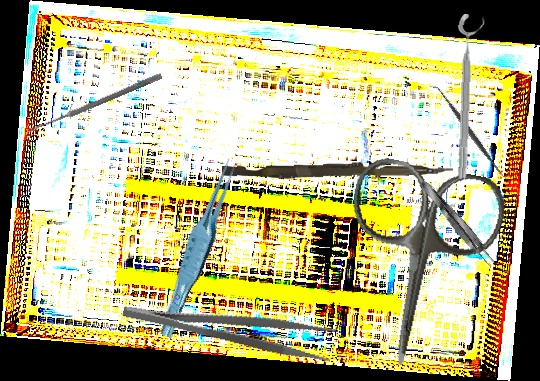Dressing Forceps: (121, 283, 337, 366)
Fixation Ring: (453, 13, 486, 180)
Iris Scissors: (324, 153, 511, 379)
Pusher: (221, 157, 454, 183)
Spatula Surgical: (429, 79, 510, 184)
Surgical Spoon: (26, 71, 163, 136)
Tissue Forceps: (146, 156, 252, 340), (416, 176, 500, 271)
